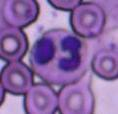N: (30, 29, 90, 84)
